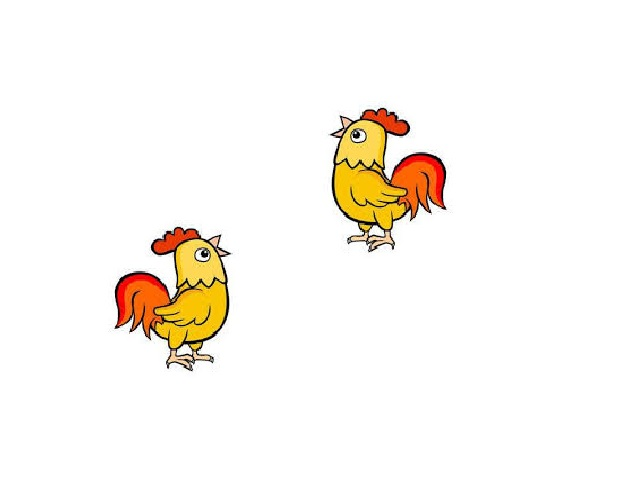crown: (362, 108, 412, 135), (149, 229, 201, 254)
eyes: (349, 127, 370, 143), (194, 247, 211, 265)
feet: (349, 230, 396, 255), (165, 353, 220, 372)
tail: (113, 270, 171, 340), (393, 153, 451, 220)
